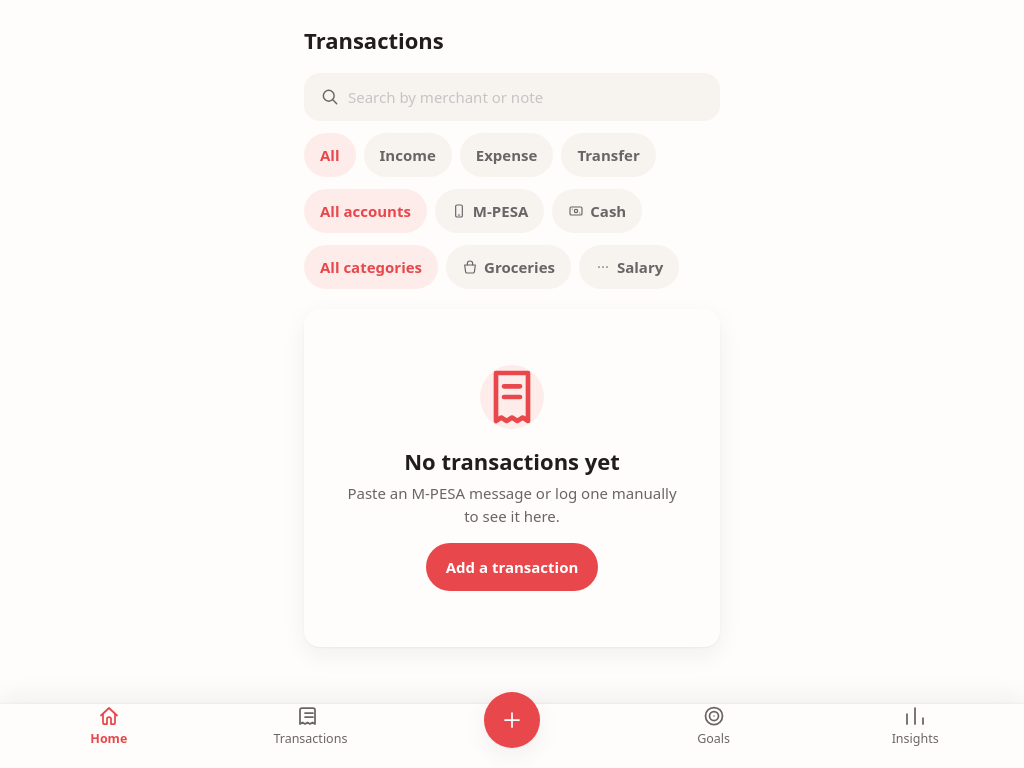
Test: Transactions › shows the teaching empty state when there are no transactions at all, and its button opens the Add sheet
Check: the heading "No transactions yet" is shown, box [404,446,620,476]
Click the button "Add a transaction". click: (512, 567)
box: [426,543,598,591]
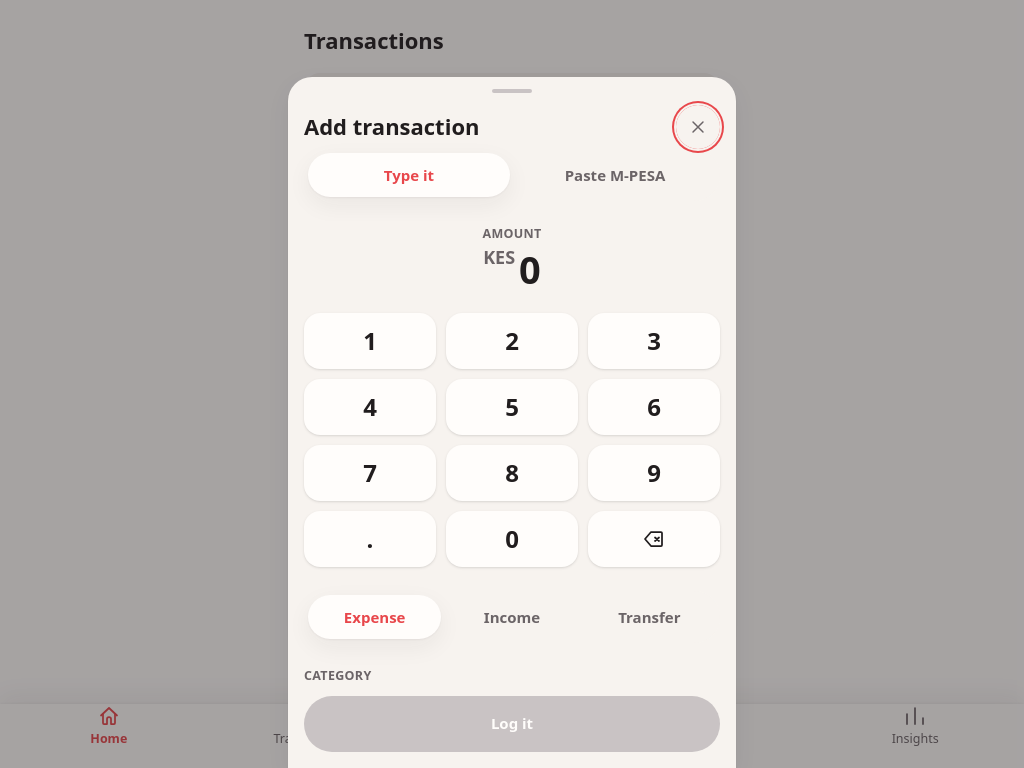
Check: the dialog "Add transaction" is shown, box [288,77,736,767]
